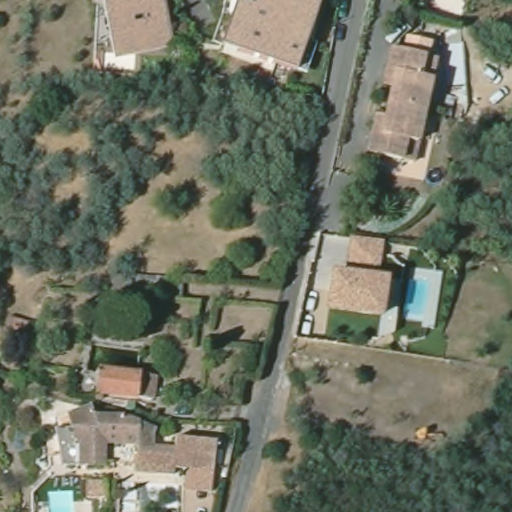pool: (405, 274, 428, 319), (47, 487, 82, 507)
